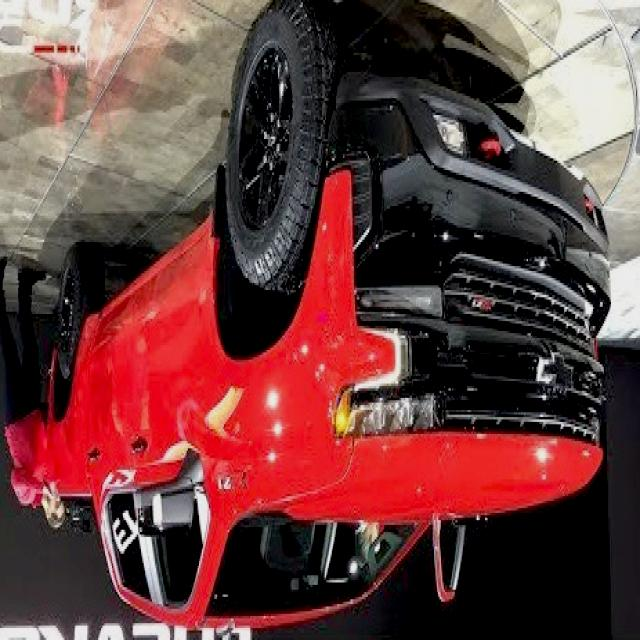red: (0, 72, 605, 640)
